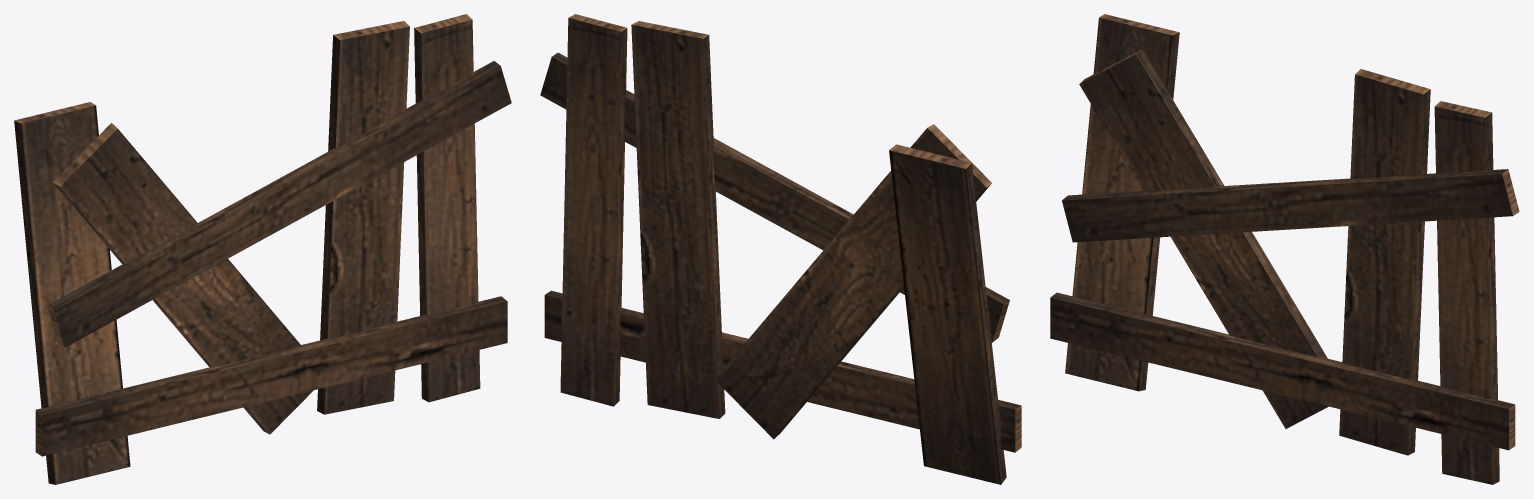
Rendered from wood_fence_4.fbx.
3 views of the same model, side by side, from view 1: azimuth 30°, elevation 25°; view 2: azimuth 150°, elevation 25°; view 3: azimuth 330°, elevation 25° (orthographic). The views are drawn at different scales.
Visible parts, largest first — view 1: wood_fence_4; view 2: wood_fence_4; view 3: wood_fence_4.
Part boxes in pixels (<box>): wood_fence_4: <box>14,14,511,484</box>; wood_fence_4: <box>540,14,1021,484</box>; wood_fence_4: <box>1050,14,1519,484</box>.
Bounding box in the file's own units: 3.03 × 2.37 × 0.4628.
